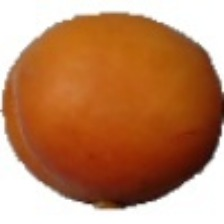apricot: (25, 11, 196, 177)
